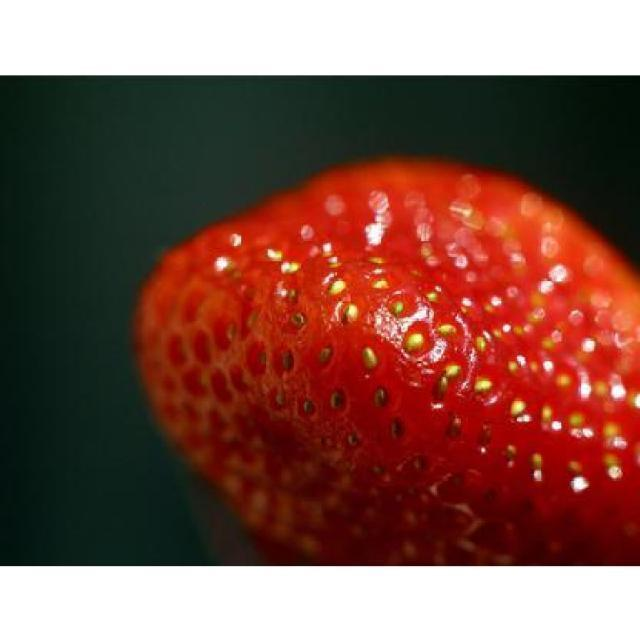Strawberry: (127, 150, 636, 561)
